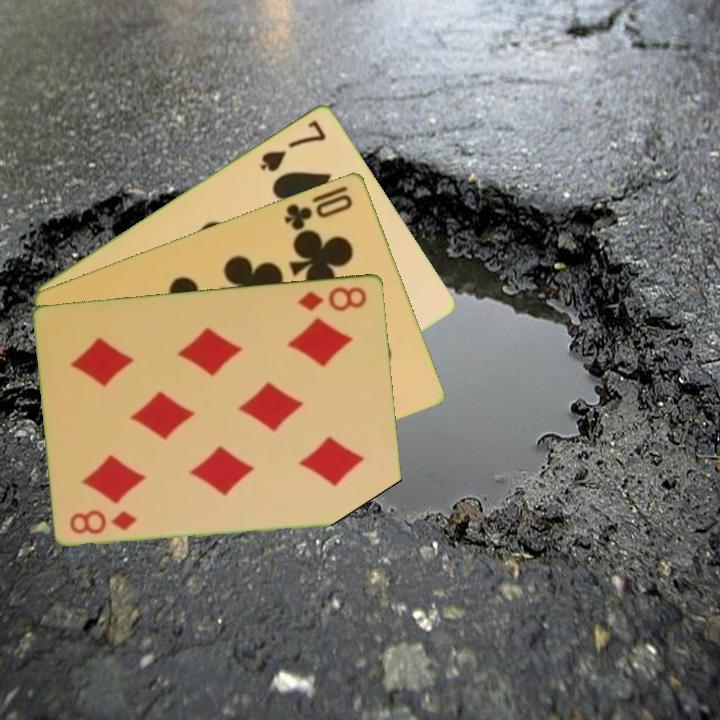10c: (280, 190, 356, 233)
7s: (256, 115, 329, 175)
8d: (294, 282, 370, 314), (67, 507, 140, 537)
